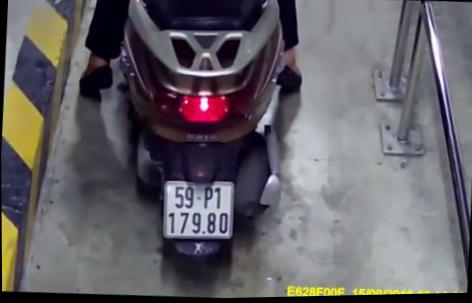LP: (160, 177, 236, 243)
